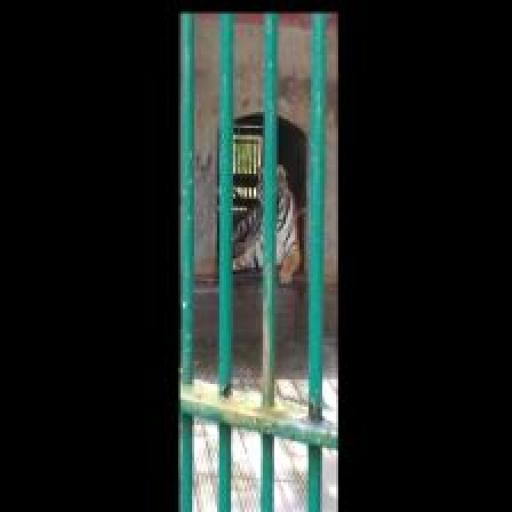Tiger: (233, 158, 309, 288)
